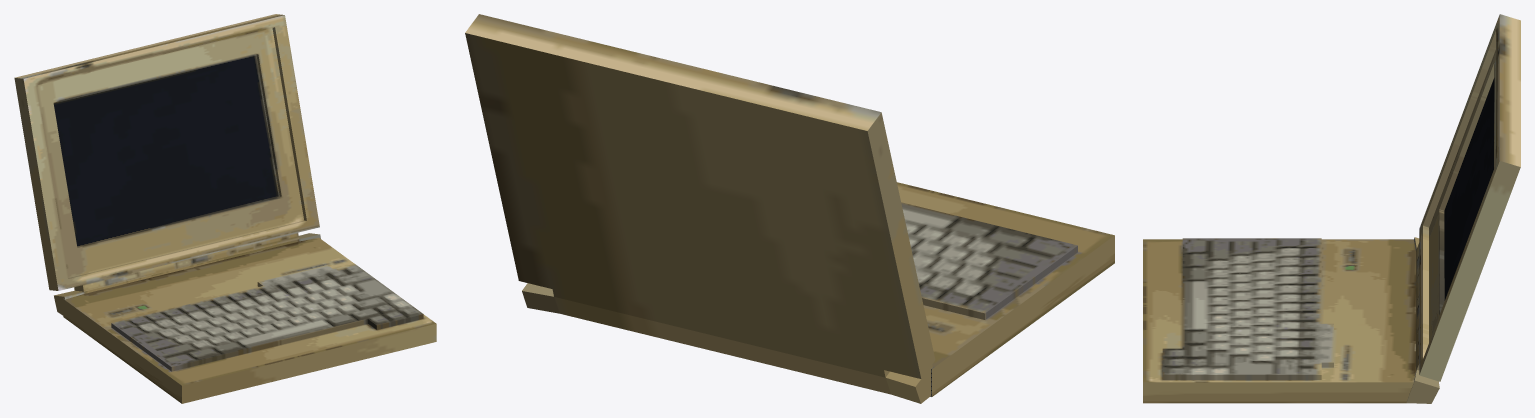
The model's file is Vintage_Laptop_PS1_Style.glb.
3 renders of one model, left to right at view 1: azimuth 30°, elevation 25°; view 2: azimuth 150°, elevation 25°; view 3: azimuth 270°, elevation 25°, orthographic. The views are drawn at different scales.
Parts seen in each view (by area): view 1: Cube.001_Material.001_0; view 2: Cube.001_Material.001_0; view 3: Cube.001_Material.001_0.
Part boxes in pixels (x1,y1,x2,y2): Cube.001_Material.001_0: [14, 14, 436, 403]; Cube.001_Material.001_0: [465, 14, 1114, 403]; Cube.001_Material.001_0: [1143, 14, 1520, 403].
Size of the model in its own units: 2.54 by 1.97 by 2.76.
1 material, 1 textured.
